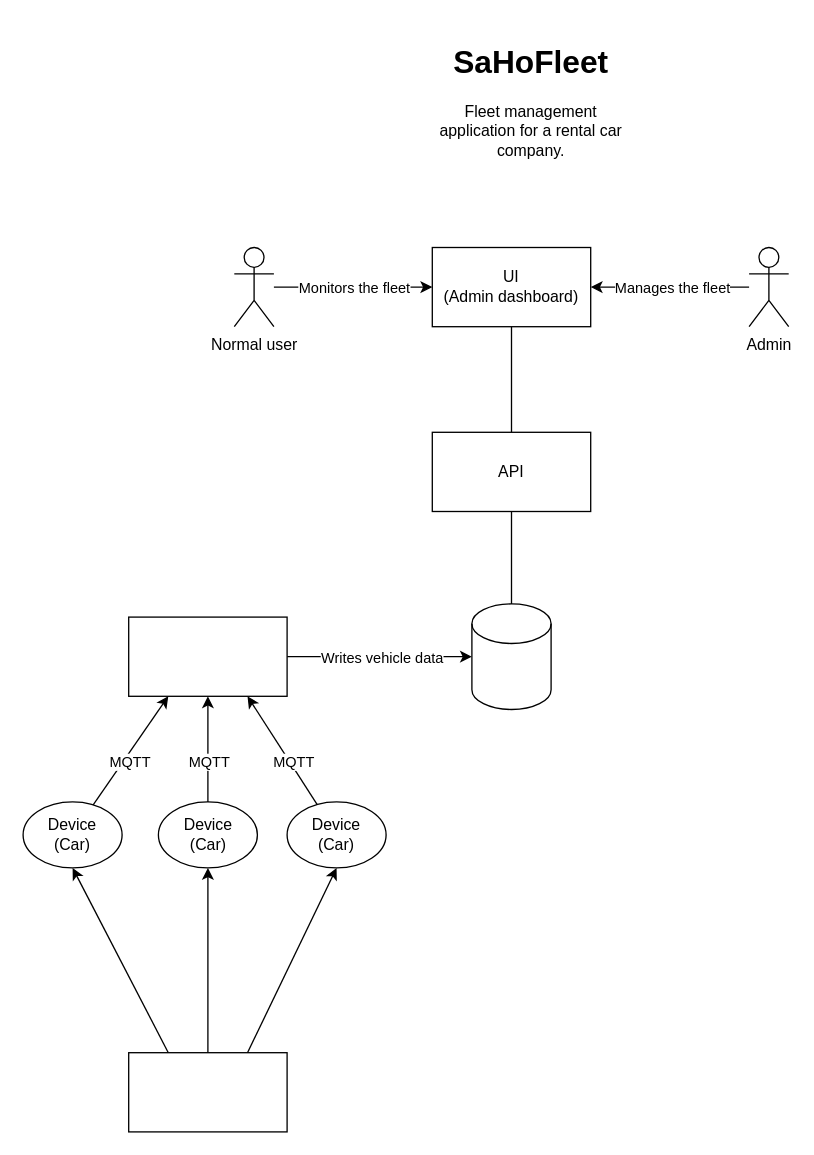
Image size: 814x1155. Some labels were removed from this diagram. Here are the shapes that lost their labels. From the top down, the centre of each, then its label:
point 207,656: DeviceBroker (MQTT)
point 511,656: DB
point 207,1091: Simulator (Simulates cars)
